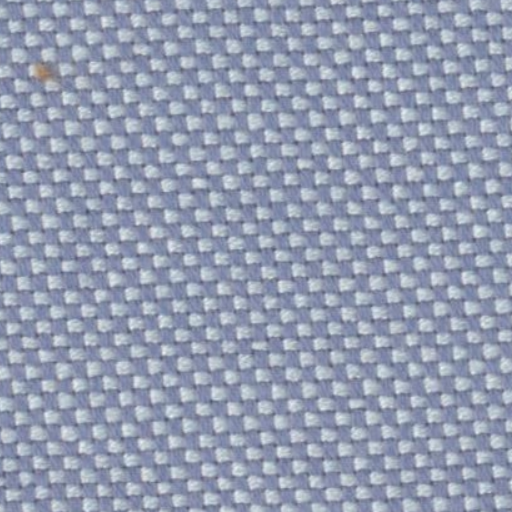WuZi: (20, 47, 72, 96)
